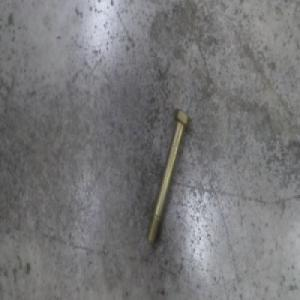Bolt: (145, 107, 190, 246)
